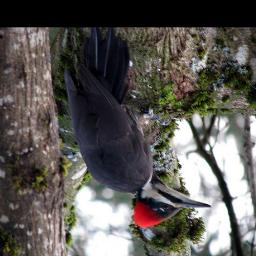Woodpecker: (57, 33, 214, 230)
